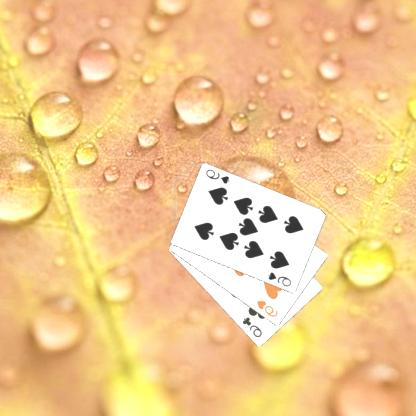6H: (256, 298, 281, 318)
9C: (241, 314, 265, 340)
9S: (205, 166, 232, 186), (267, 269, 295, 288)
